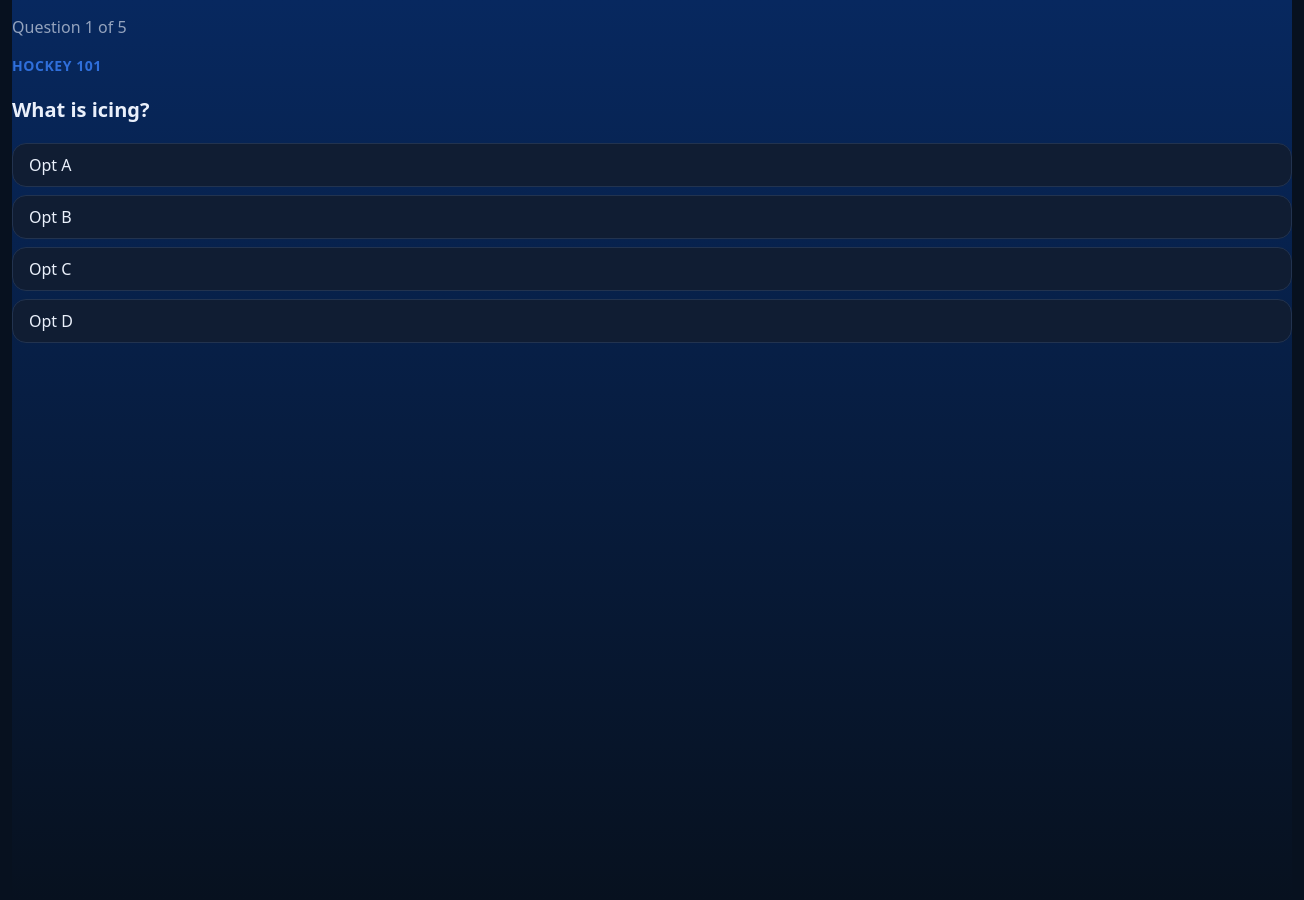
Test: Challenge › reveal_always_follows_an_answer
Expected: the text "Icing is shooting" is not shown
Click the button "Opt A". click: (50, 165)
box: [12,143,1292,187]
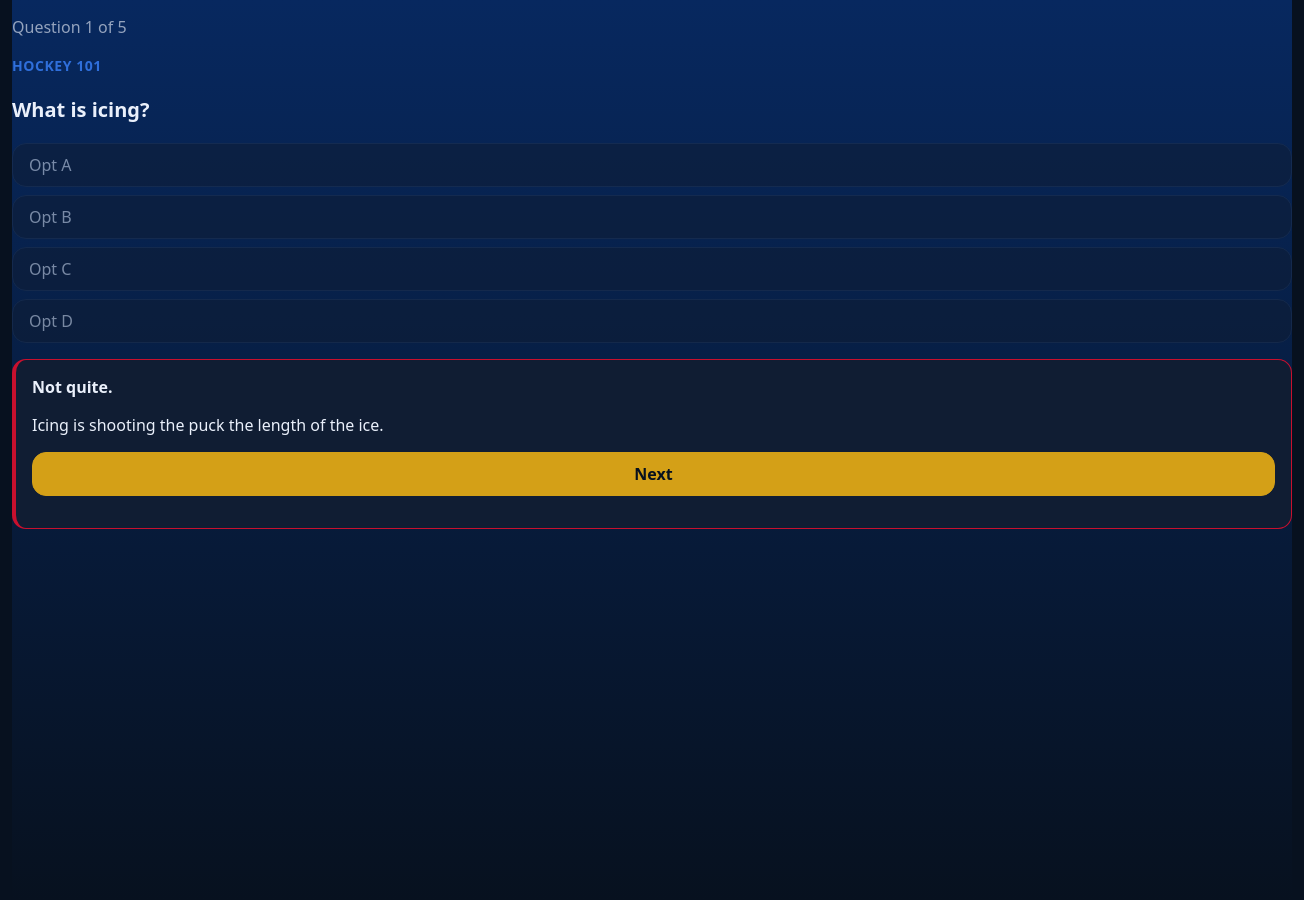
Expected: the text "Icing is shooting the puck the length of the ice." is shown, [32,414,384,436]
Expected: the text "Not quite." is shown, [32,376,112,398]
